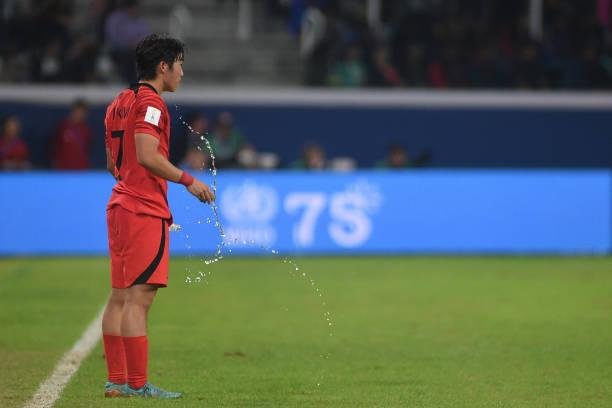Spitting: (117, 24, 214, 134)
